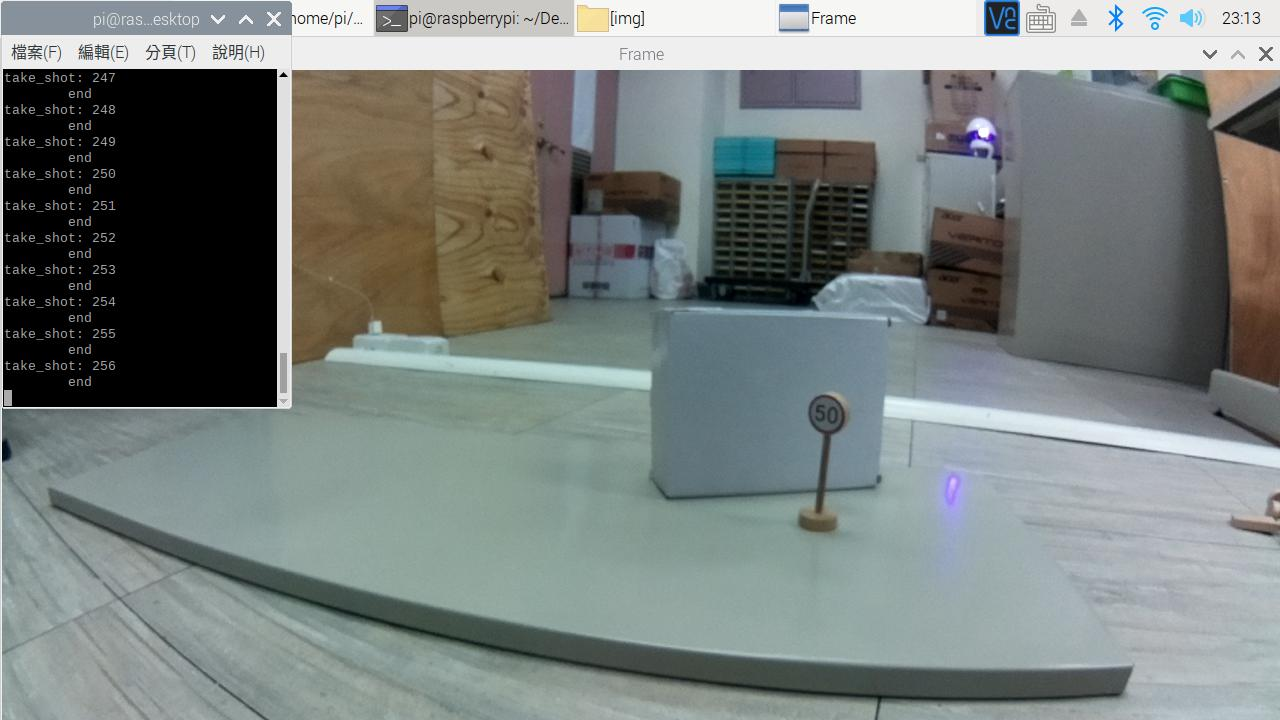Speed50: (805, 383, 857, 452)
